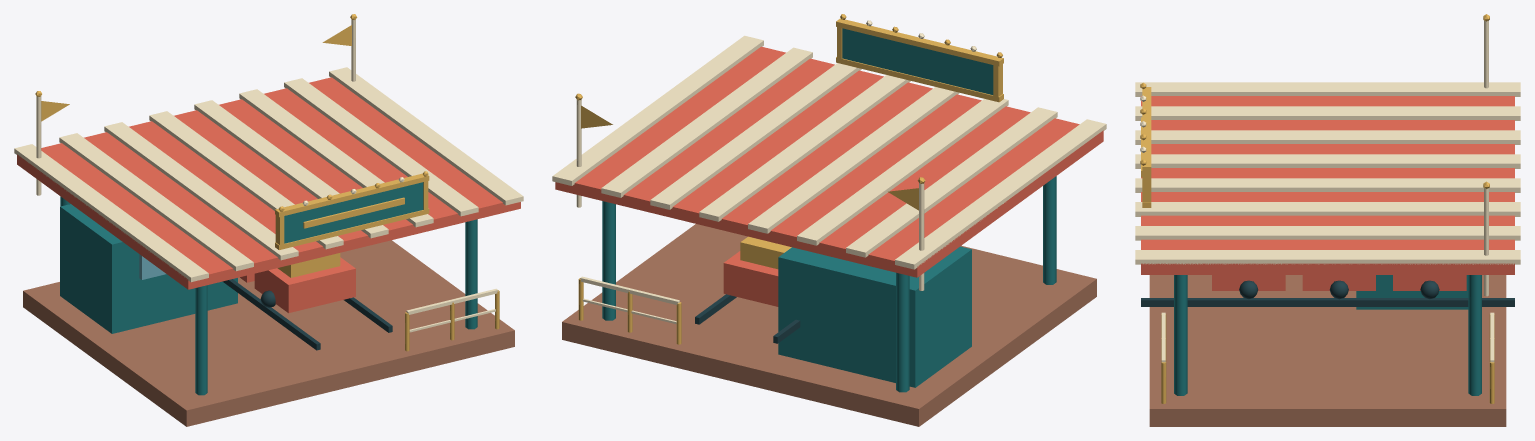
The model's file is ride_coaster.glb.
The picture shows the model from 3 angles, left to right: view 1: azimuth 30°, elevation 25°; view 2: azimuth 150°, elevation 25°; view 3: azimuth 270°, elevation 25°; orthographic projection. The views are drawn at different scales.
Parts seen in each view (by area): view 1: ride_coaster; view 2: ride_coaster; view 3: ride_coaster.
Part boxes in pixels (x1,y1,x2,y2): ride_coaster: (14,14,523,426); ride_coaster: (552,14,1106,426); ride_coaster: (1135,14,1520,426).
Bounding box in the file's own units: 7.4 × 4.69 × 6.8.
